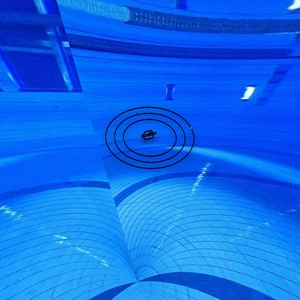circle: (103, 104, 201, 174)
submarine: (138, 127, 162, 144)
